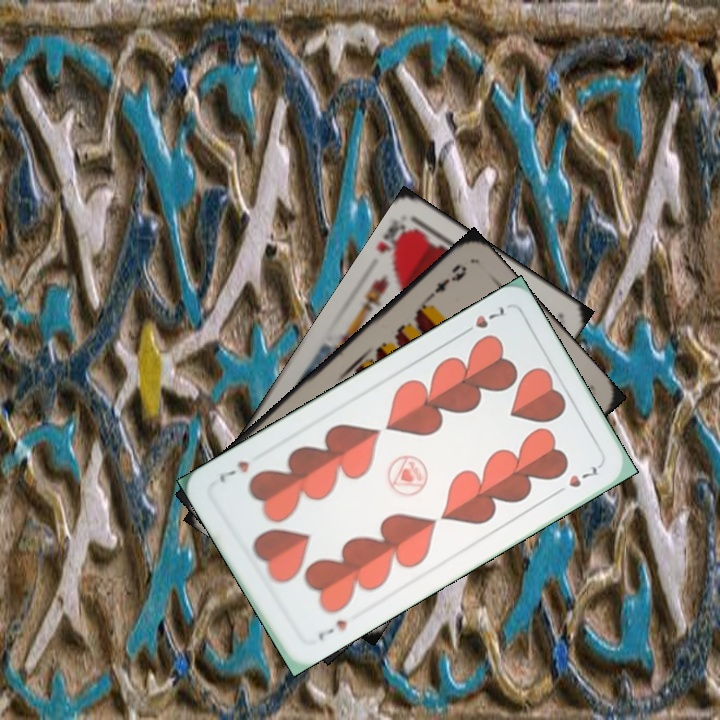E9: (423, 260, 469, 303)
H7: (456, 302, 510, 339), (314, 615, 349, 643)
HK: (372, 215, 416, 267)
